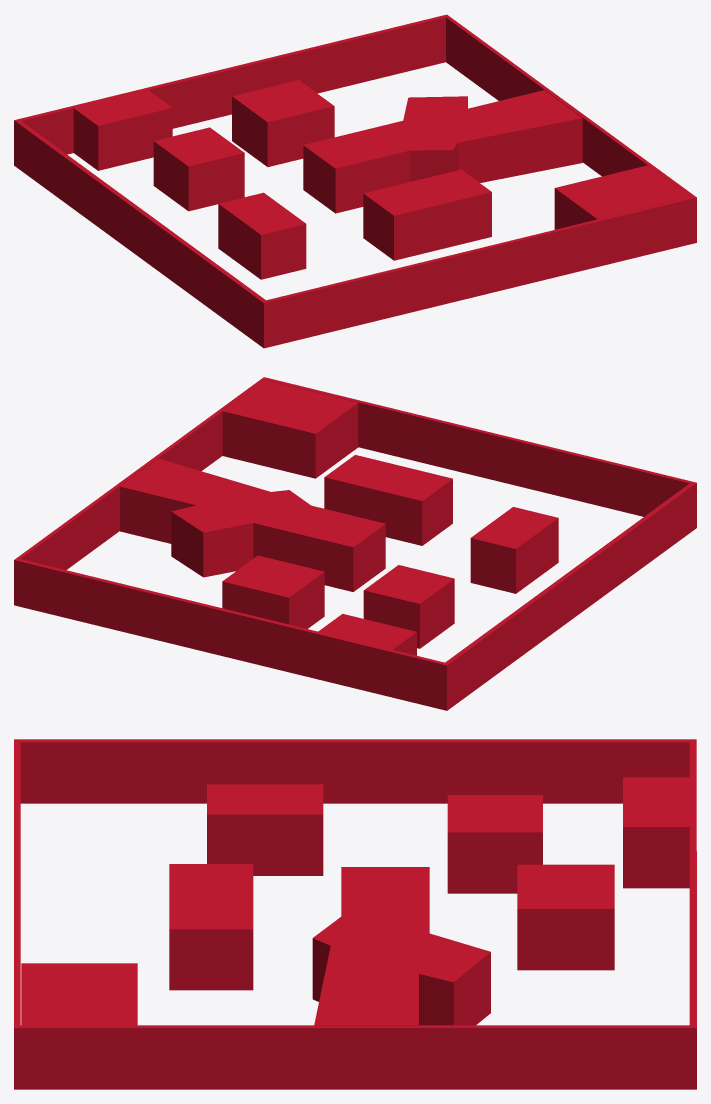
File: simple.dae
3 renders of one model, top to bottom at view 1: azimuth 30°, elevation 25°; view 2: azimuth 150°, elevation 25°; view 3: azimuth 270°, elevation 25°, orthographic. The views are drawn at different scales.
Visible parts, largest first — view 1: Simple_World; view 2: Simple_World; view 3: Simple_World.
Part boxes in pixels (x1=…): Simple_World: x1=14, y1=14, x2=696, y2=348; Simple_World: x1=14, y1=377, x2=696, y2=710; Simple_World: x1=14, y1=739, x2=696, y2=1089.
Size of the model in its own units: 5 by 5 by 0.5.
